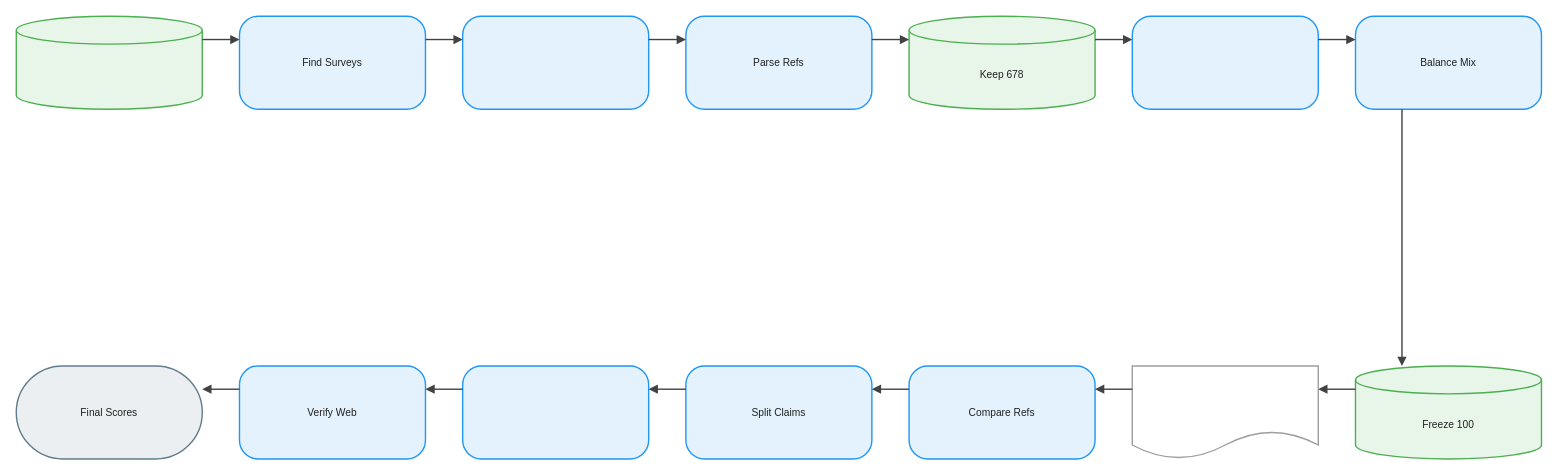
Some shapes in this 1559 by 476 pixel diagram are drawn without their labels. The centre of each missing label's shape, as x and y in pixels:
ArXiv Snapshot: pixel 109 62
Check Sources: pixel 555 412
Make Prompts: pixel 1225 62
Verify Papers: pixel 555 62
Write Report: pixel 1225 412
